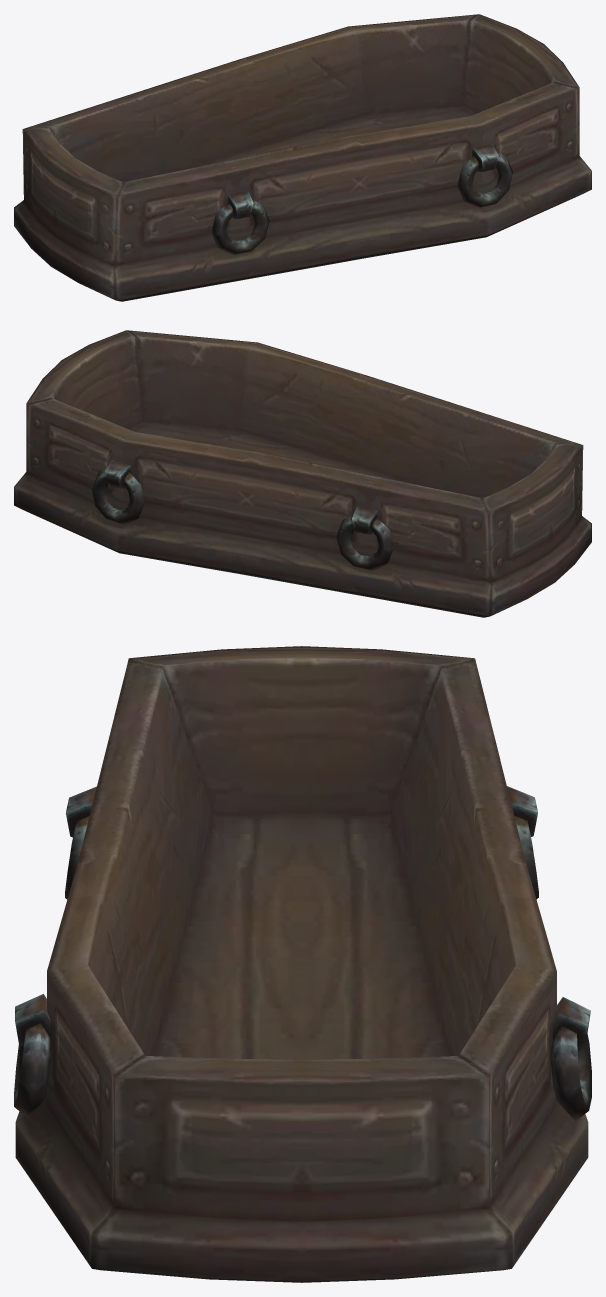
The picture shows the model from 3 angles, top to bottom: view 1: azimuth 30°, elevation 25°; view 2: azimuth 150°, elevation 25°; view 3: azimuth 270°, elevation 25°; orthographic projection. The views are drawn at different scales.
Size of the model in its own units: 3.59 by 0.7692 by 1.93.
Materials: 1 (1 with a texture image).
